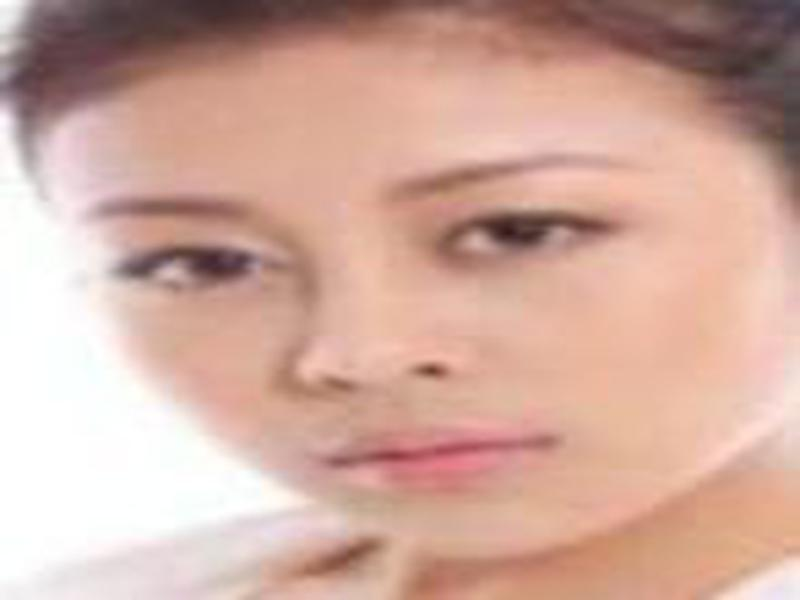without_mask: (45, 88, 800, 562)
